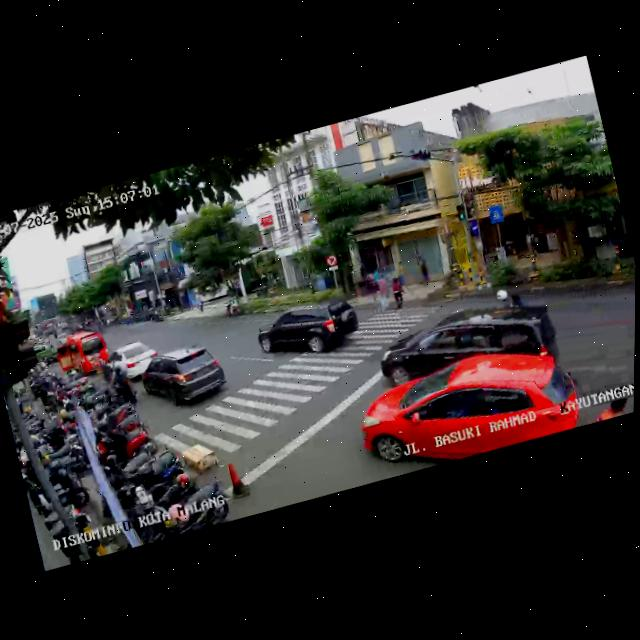car: (351, 332, 586, 482), (368, 285, 567, 406), (251, 290, 363, 371), (135, 337, 232, 418), (51, 325, 111, 382), (100, 336, 163, 385)
person: (372, 275, 394, 312), (388, 273, 408, 310)
